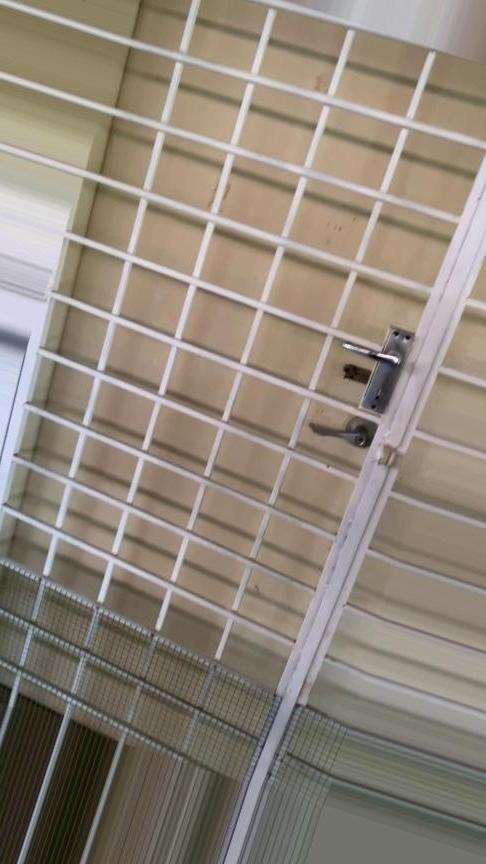door: (0, 0, 486, 738)
